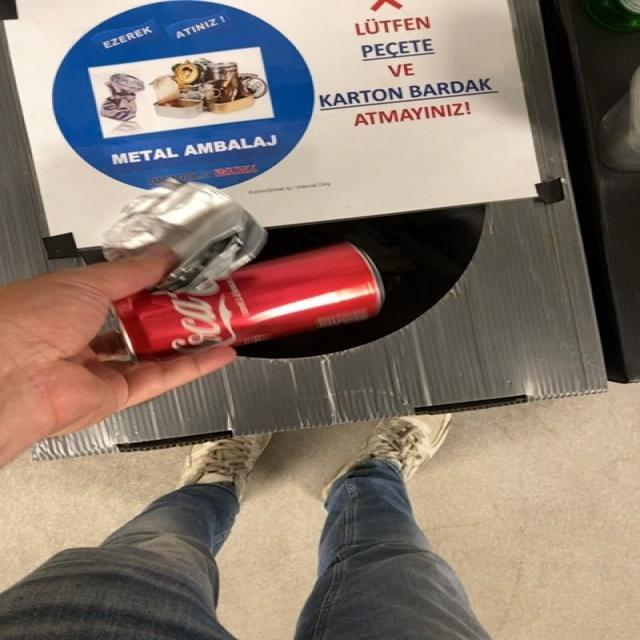Bin: (33, 0, 607, 460), (1, 60, 80, 282)
Metal: (103, 179, 384, 358)
